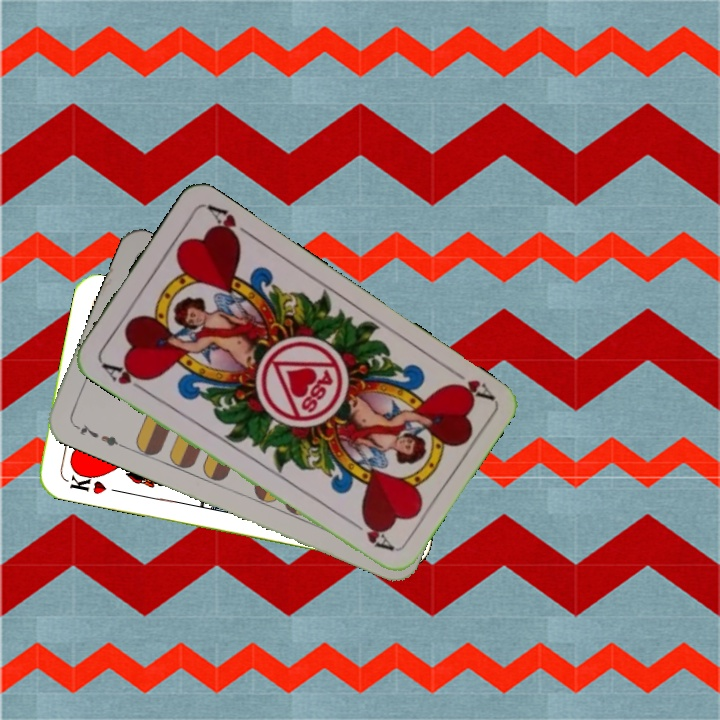E7: (70, 419, 126, 450)
HA: (443, 362, 496, 404), (97, 358, 152, 395)
HK: (61, 466, 109, 497)
